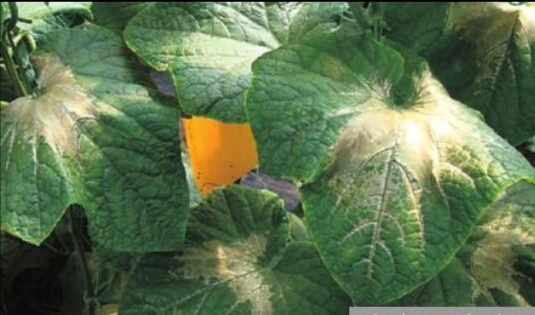cucumber_plant: (256, 26, 526, 299), (8, 11, 194, 250)
